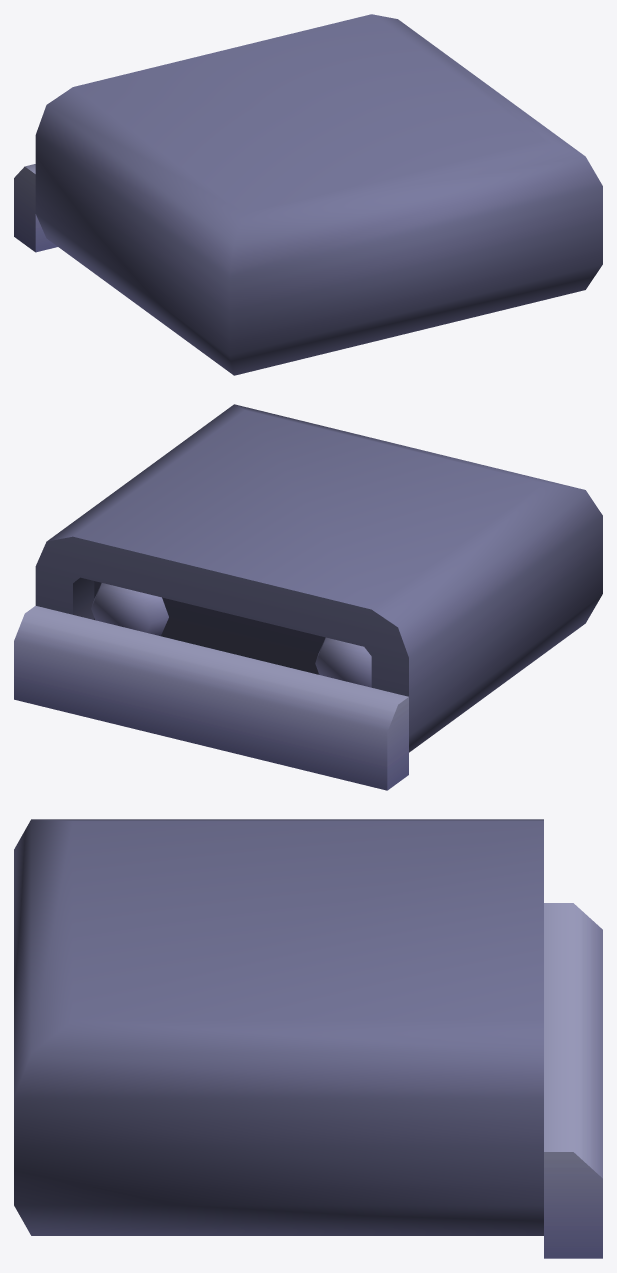
File: kenney-factory-conveyor-sides-junction-t.glb
3 views of the same model, one above another, from view 1: azimuth 30°, elevation 25°; view 2: azimuth 150°, elevation 25°; view 3: azimuth 270°, elevation 25° (orthographic). The views are drawn at different scales.
Visible parts, largest first — view 1: conveyor-sides-junction-t; view 2: conveyor-sides-junction-t; view 3: conveyor-sides-junction-t.
Part boxes in pixels (x1,y1,x2,y2): conveyor-sides-junction-t: [14, 14, 602, 375]; conveyor-sides-junction-t: [14, 404, 602, 790]; conveyor-sides-junction-t: [14, 819, 602, 1258].
Bounding box in the file's own units: 1 × 0.3999 × 1.
Materials: 1 (1 with a texture image).
